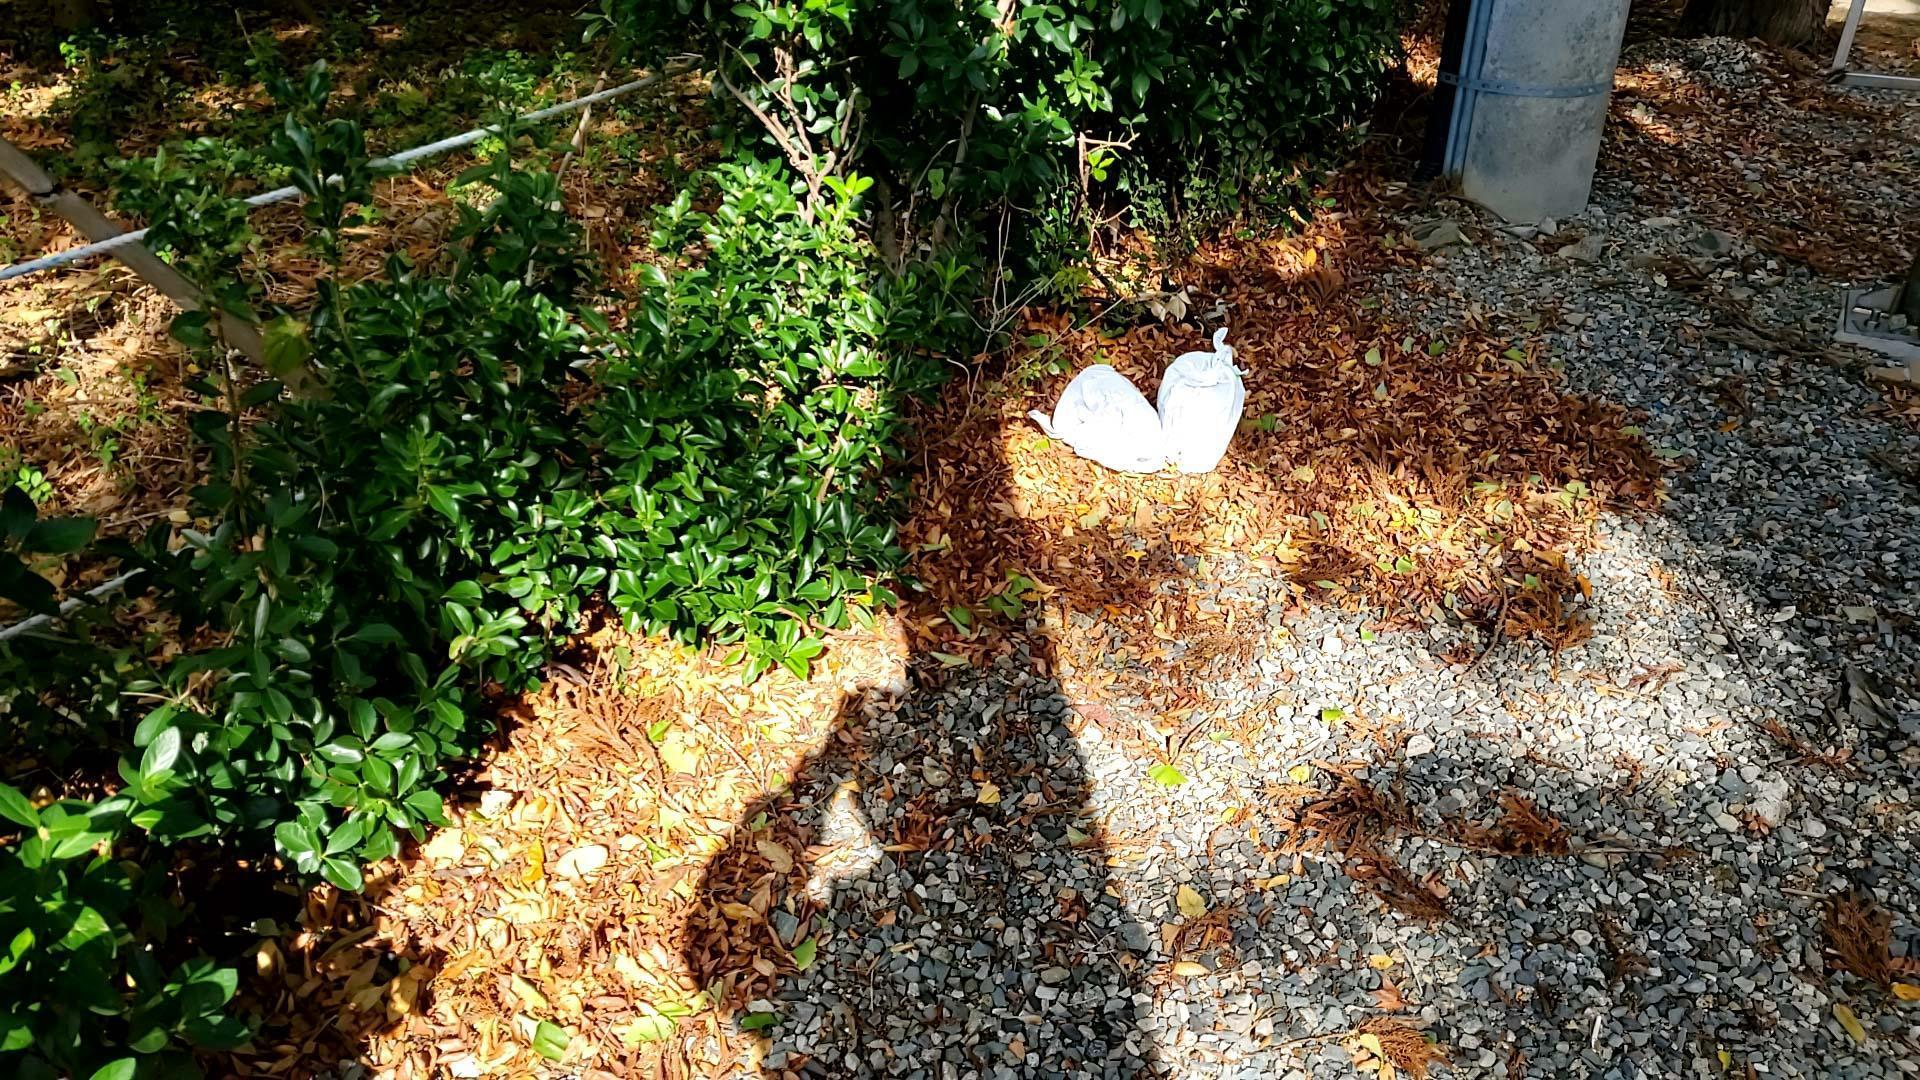white_bag: (1022, 356, 1178, 485), (1145, 322, 1254, 493)
